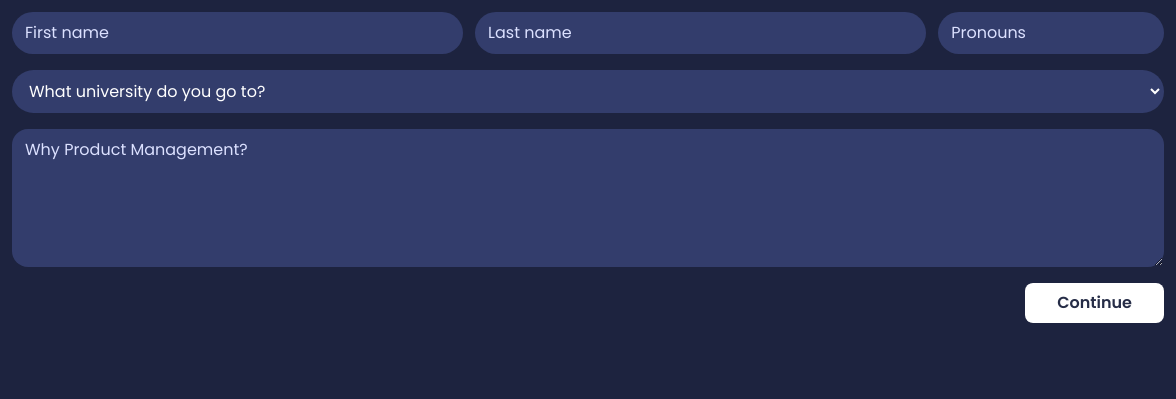
Test: UserDataForm › conditionally renders › major/faculty/year input if uni student
Select "Other" in the dropdown with test id "university-dropdown": (588, 92) [12,70,1164,113]
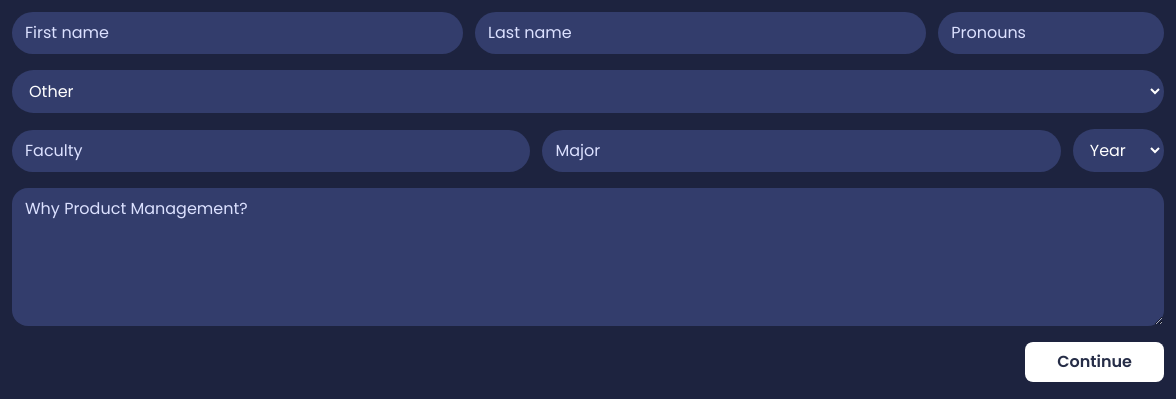
expect the field with placeholder "Faculty" is shown: met, box [12,130,530,172]
expect the field with placeholder "Major" is shown: met, box [542,130,1061,172]
expect the dropdown with test id "year-dropdown" is shown: met, box [1073,129,1164,172]
